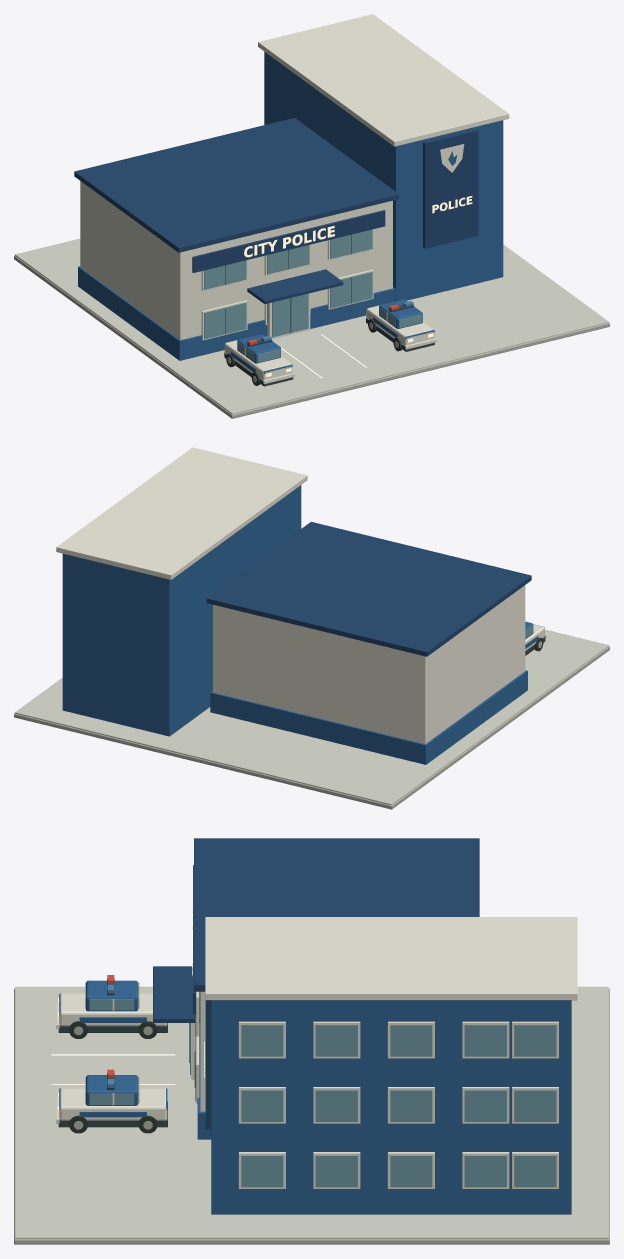
The model's file is police-station.glb.
3 views of the same model, one above another, from view 1: azimuth 30°, elevation 25°; view 2: azimuth 150°, elevation 25°; view 3: azimuth 270°, elevation 25° (orthographic). The views are drawn at different scales.
Visible parts, largest first — view 1: Paving, PublicRoof, OfficeWing, PublicWing, OfficeRoof, WhiteIdentityPanel, BluePublicBase, CityPoliceSignBack, Lot, EntryCanopy, EntryGlass, WindowGlass (+7 smaller); view 2: OfficeWing, PublicWing, PublicRoof, Paving, OfficeRoof, BluePublicBase, Lot; view 3: Paving, OfficeWing, OfficeRoof, PublicRoof, Lot, EntryCanopy, PatrolBody.001, PatrolBody, SideWindow.004, SideWindow, SideWindow.001, SideWindow.002 (+17 smaller).
Part boxes in pixels (<box>): Paving: <box>15,238,608,414</box>; PublicRoof: <box>74,118,399,252</box>; OfficeWing: <box>264,52,503,300</box>; PublicWing: <box>80,181,392,339</box>; OfficeRoof: <box>258,14,509,146</box>; WhiteIdentityPanel: <box>423,129,478,248</box>; BluePublicBase: <box>78,266,395,360</box>; CityPoliceSignBack: <box>192,210,385,272</box>; Lot: <box>14,255,609,418</box>; EntryCanopy: <box>247,269,343,303</box>; EntryGlass: <box>272,293,308,337</box>; WindowGlass: <box>204,302,246,339</box>; OfficeWing: <box>62,485,301,736</box>; PublicWing: <box>212,585,525,744</box>; PublicRoof: <box>206,522,531,656</box>; Paving: <box>15,629,608,805</box>; OfficeRoof: <box>56,447,307,579</box>; BluePublicBase: <box>210,670,527,764</box>; Lot: <box>14,646,609,809</box>; Paving: <box>15,986,608,1239</box>; OfficeWing: <box>211,1000,571,1214</box>; OfficeRoof: <box>205,917,577,1000</box>; PublicRoof: <box>194,838,479,991</box>; Lot: <box>14,988,609,1244</box>; EntryCanopy: <box>153,966,200,1022</box>; PatrolBody.001: <box>59,1088,167,1120</box>; PatrolBody: <box>59,993,167,1026</box>; SideWindow.004: <box>514,1155,556,1187</box>; SideWindow: <box>241,1155,283,1187</box>; SideWindow.001: <box>315,1155,357,1187</box>; SideWindow.002: <box>390,1155,432,1187</box>.
Size of the model in its own units: 24 by 10.27 by 24.
